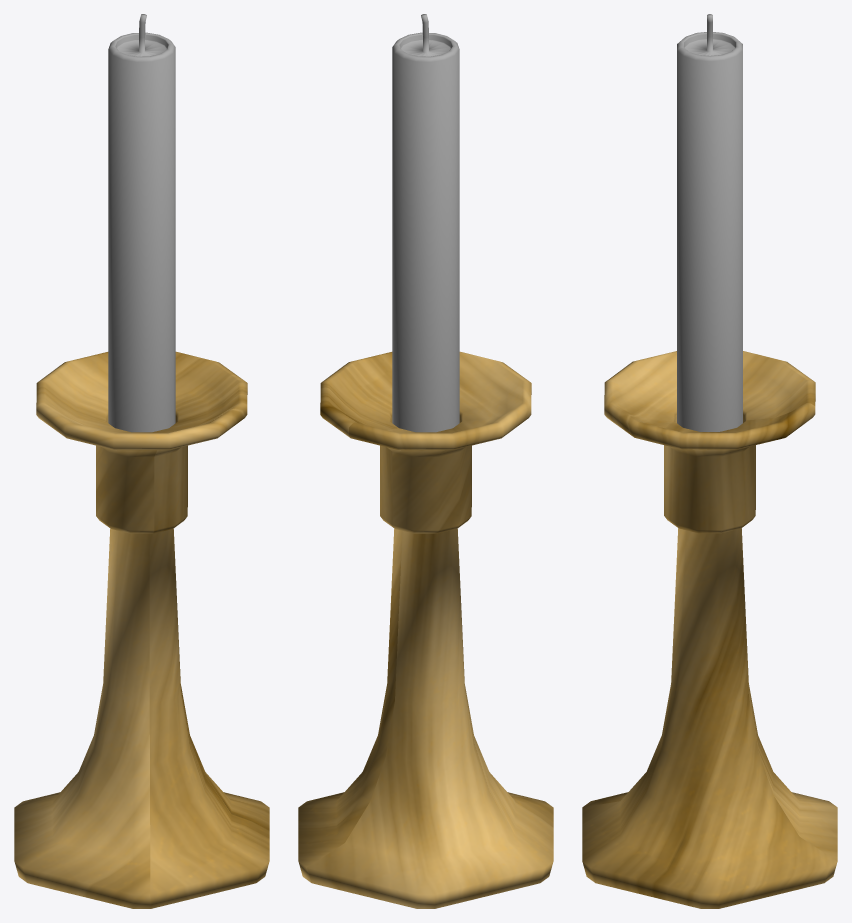
The model's file is Misc_Candle.fbx.
3 views of the same model, side by side, from view 1: azimuth 30°, elevation 25°; view 2: azimuth 150°, elevation 25°; view 3: azimuth 270°, elevation 25° (orthographic).
Parts seen in each view (by area): view 1: CandleUVd:polySurface122; view 2: CandleUVd:polySurface122; view 3: CandleUVd:polySurface122.
Boxes of the visible parts, bbox=[...] form: CandleUVd:polySurface122: bbox=[14, 14, 269, 908]; CandleUVd:polySurface122: bbox=[298, 14, 553, 908]; CandleUVd:polySurface122: bbox=[582, 14, 837, 908].
Bounding box in the file's own units: 9.57 × 31 × 8.57.
